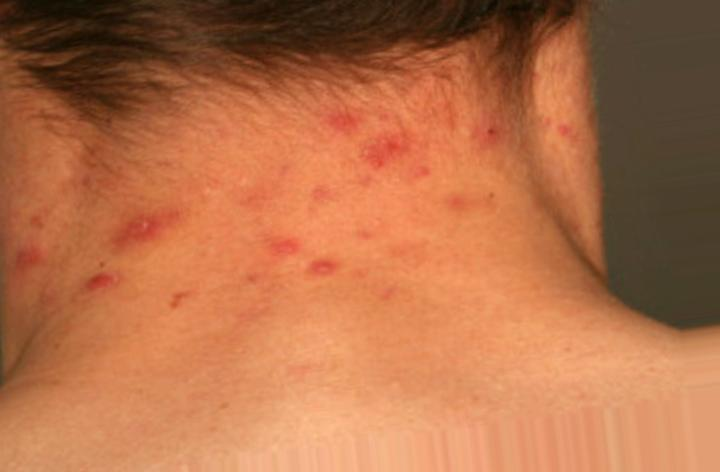Folliculitis: (319, 101, 417, 174), (62, 263, 136, 301), (115, 200, 161, 252), (465, 119, 523, 152), (435, 189, 488, 217), (299, 254, 339, 287), (10, 244, 51, 275), (539, 112, 581, 142), (159, 285, 200, 312), (261, 236, 306, 259)
